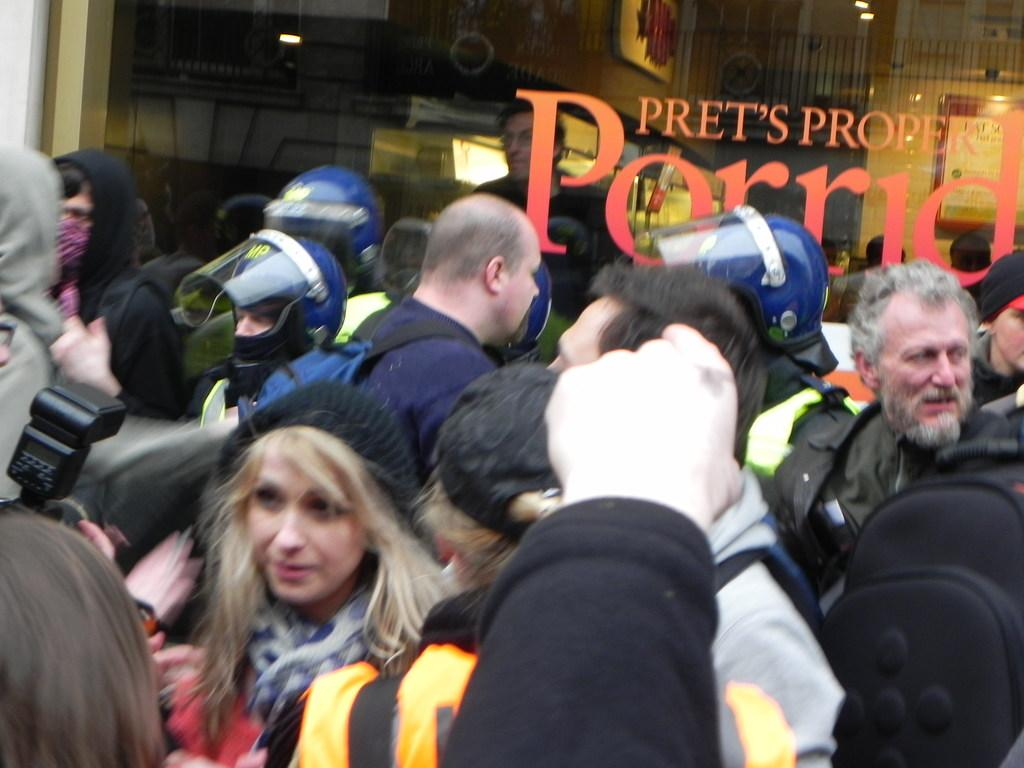helmet: (633, 204, 831, 353), (178, 229, 348, 362), (263, 165, 379, 282)
nohelmet: (226, 378, 394, 613), (849, 258, 977, 452), (419, 192, 544, 350)
